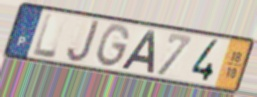4: (189, 38, 220, 85)
7: (157, 31, 194, 77)
A: (119, 29, 157, 75)
G: (95, 22, 132, 69)
J: (65, 18, 101, 64)
L: (31, 12, 58, 60)
